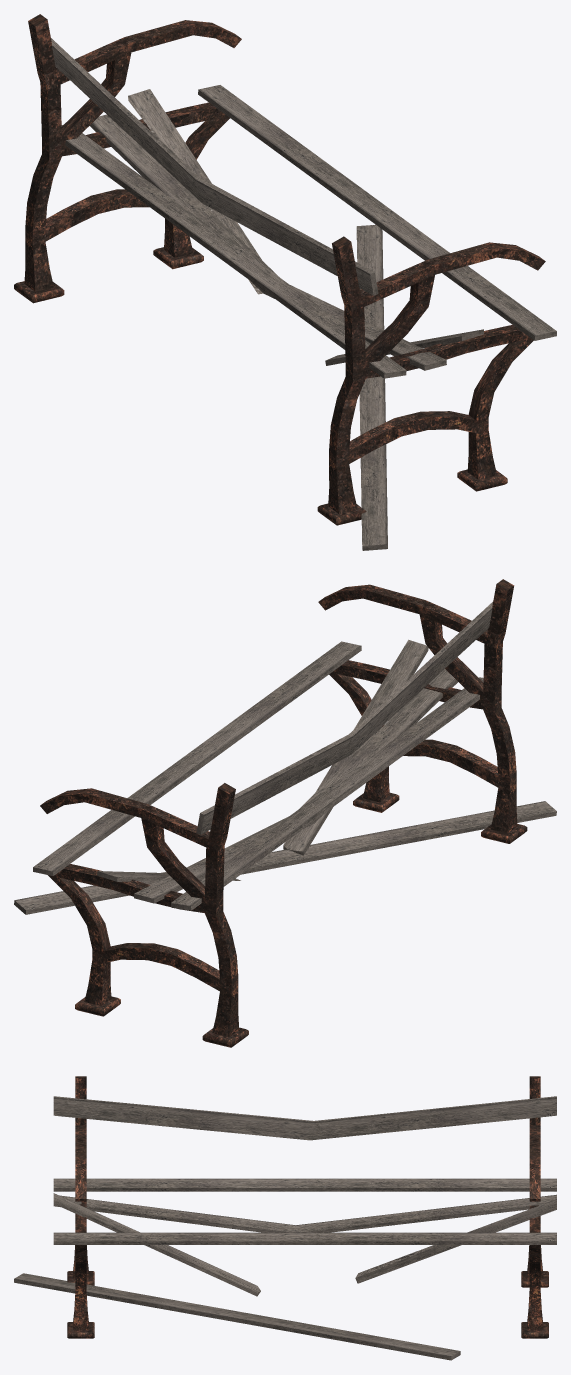
File: bench.fbx
3 renders of one model, top to bottom at view 1: azimuth 30°, elevation 25°; view 2: azimuth 150°, elevation 25°; view 3: azimuth 270°, elevation 25°, orthographic. The views are drawn at different scales.
Parts seen in each view (by area): view 1: bench_Layer3; view 2: bench_Layer3; view 3: bench_Layer3.
Part boxes in pixels (x1=…): bench_Layer3: x1=14, y1=14, x2=556, y2=550; bench_Layer3: x1=14, y1=579, x2=556, y2=1047; bench_Layer3: x1=14, y1=1076, x2=556, y2=1360.
Size of the model in its own units: 0.967 by 0.8382 by 1.98.
